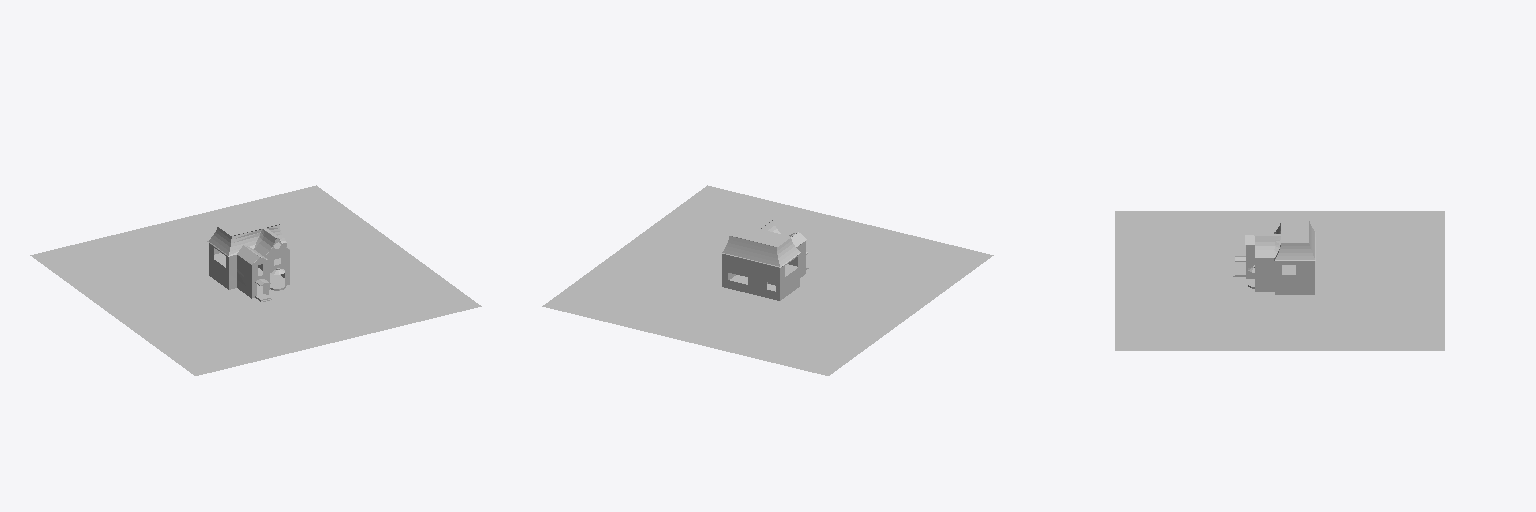
The model's file is Casa espejo respaldo.obj.
The picture shows the model from 3 angles: view 1: azimuth 30°, elevation 25°; view 2: azimuth 150°, elevation 25°; view 3: azimuth 270°, elevation 25°; orthographic projection.
Parts seen in each view (by area): view 1: Plane, Paredes, Techo; view 2: Plane, Paredes, Techo; view 3: Plane, Paredes, Techo.
Part boxes in pixels (left/top/right/bottom): Plane: left=30, top=185, right=481, bottom=375; Paredes: left=209, top=238, right=289, bottom=298; Techo: left=207, top=214, right=289, bottom=264; Plane: left=542, top=185, right=993, bottom=375; Paredes: left=722, top=241, right=805, bottom=300; Techo: left=722, top=219, right=806, bottom=267; Plane: left=1115, top=211, right=1444, bottom=350; Paredes: left=1246, top=245, right=1314, bottom=294; Techo: left=1245, top=219, right=1315, bottom=260.
Bounding box in the file's own units: 979 × 166 × 979.